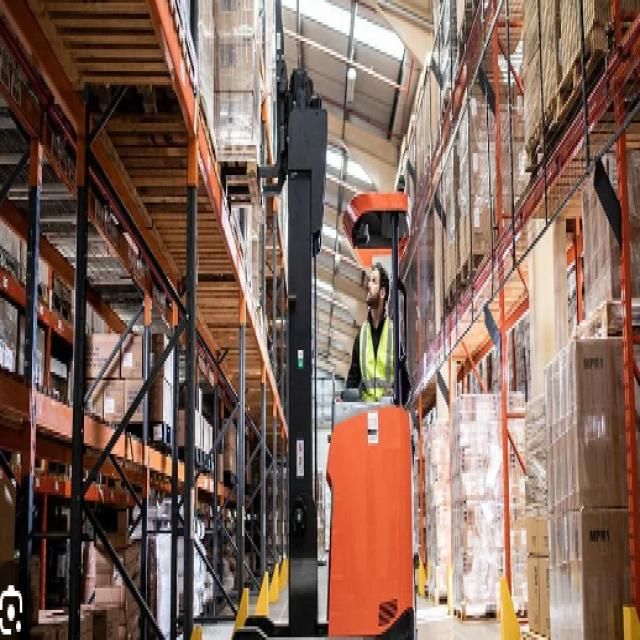vest: (360, 314, 400, 408)
